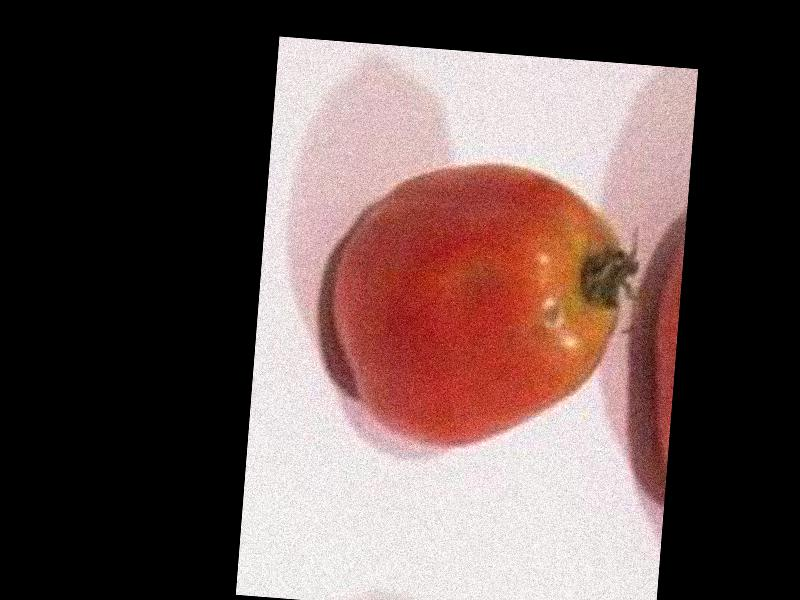Tomato: (329, 154, 633, 458)
